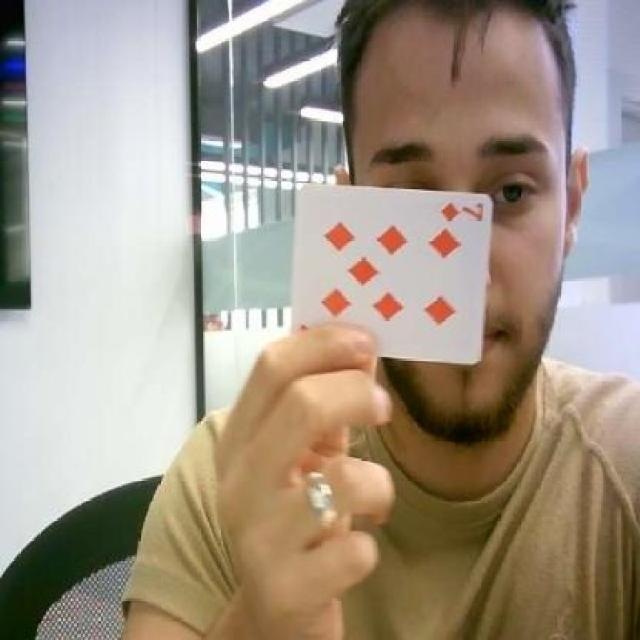7D: (441, 200, 484, 225)
